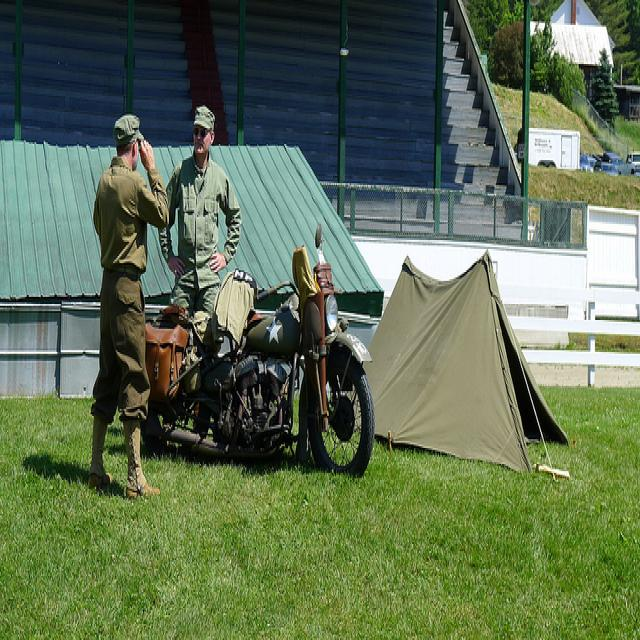motor: (144, 224, 375, 476)
